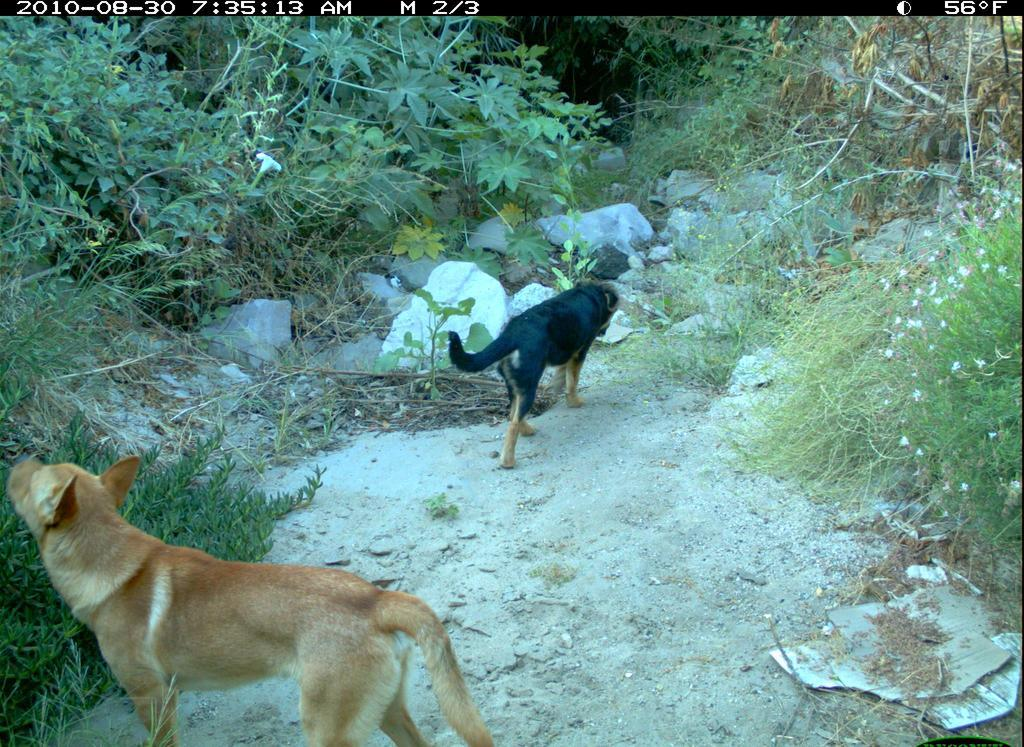dog: (11, 447, 507, 745), (443, 273, 629, 472)
